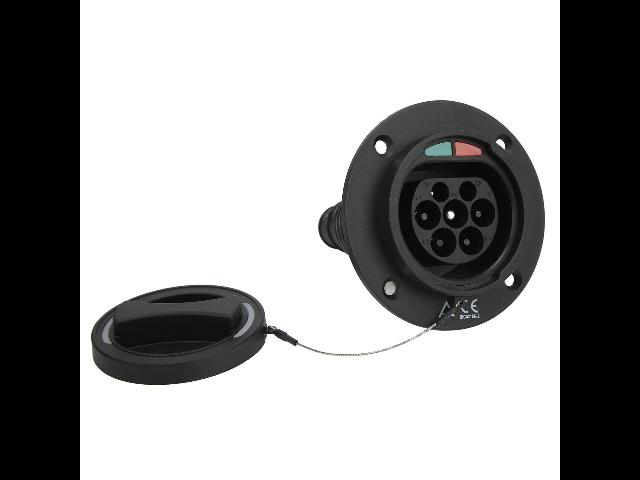inlet: (412, 177, 498, 264)
inlet-above-left: (431, 182, 449, 203)
inlet-above-right: (459, 181, 477, 202)
inlet-below-left: (431, 227, 457, 258)
inlet-below-right: (458, 226, 484, 256)
inlet-circle: (443, 199, 469, 229)
inlet-circle-left: (414, 200, 441, 230)
inlet-circle-right: (471, 198, 495, 228)
